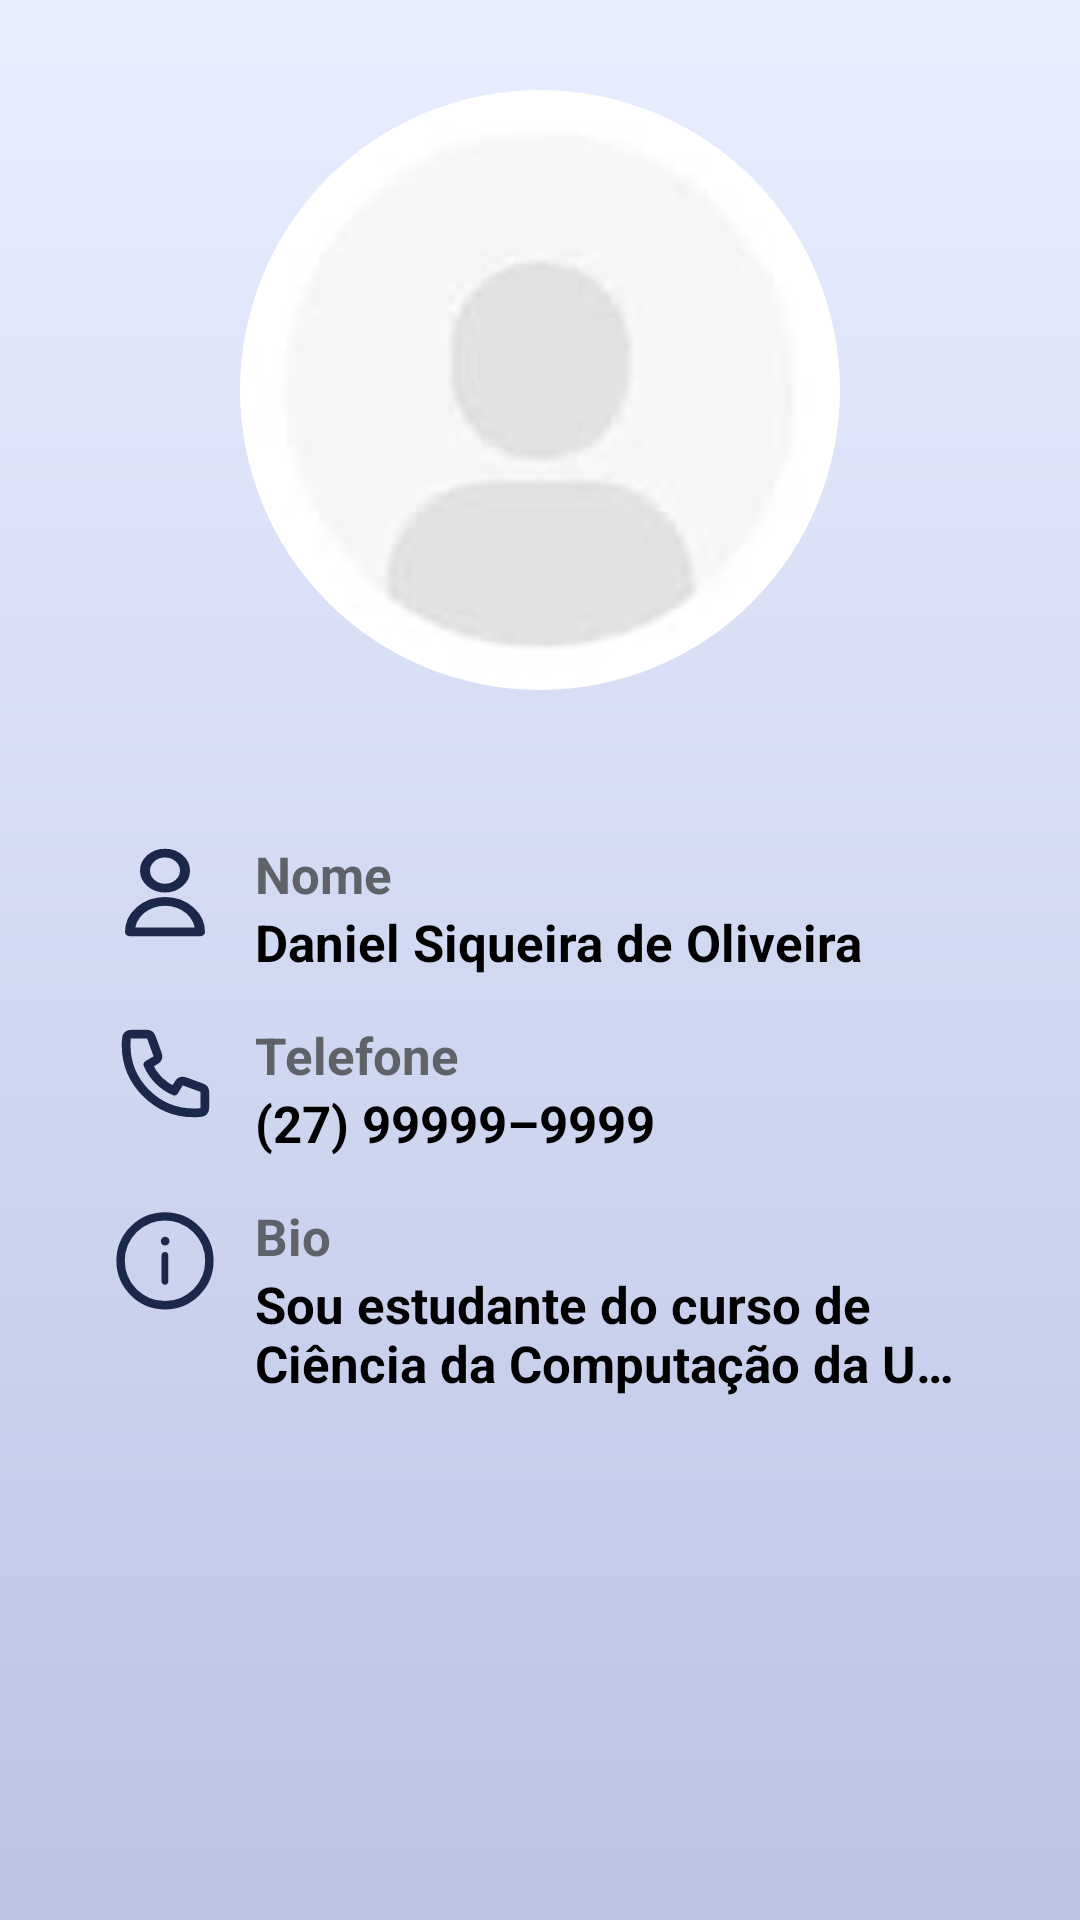

Named icons in this screenshot (1080*1920) and their bounding boxes, (x1, y1, x2, y2):
Ícone de informação: (116, 1212, 214, 1310)
Ícone usuário: (125, 848, 205, 937)
